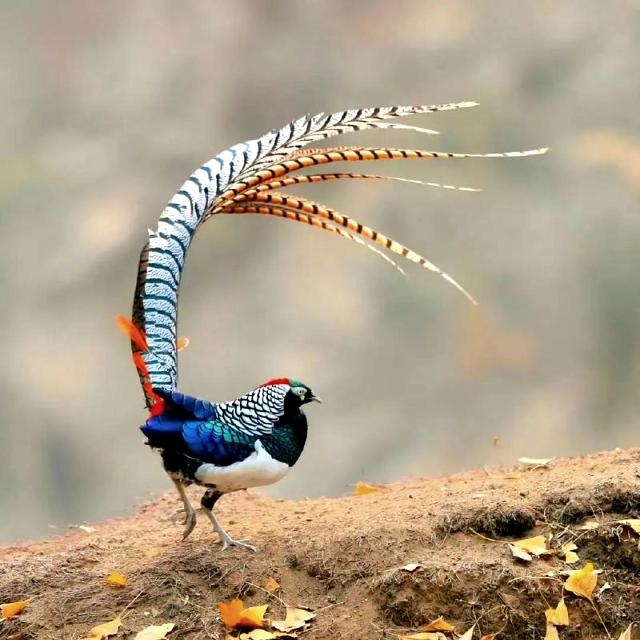Chrysolophus amherstiae: (133, 102, 548, 389)
